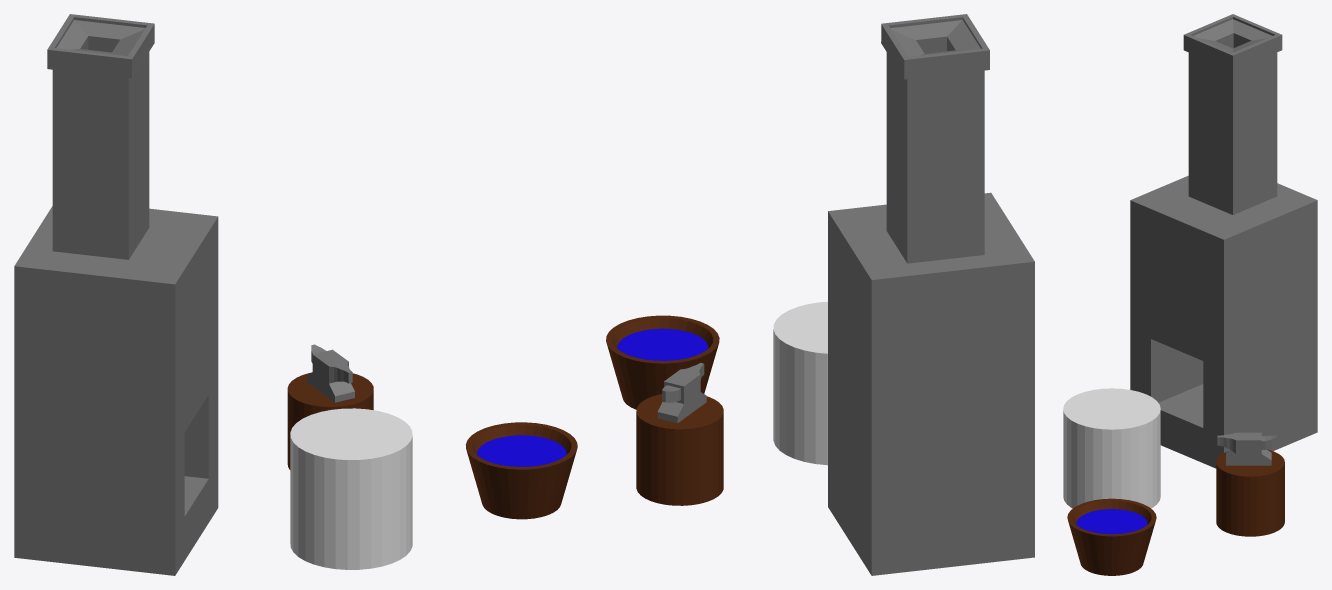
File: Forge.fbx
The picture shows the model from 3 angles, left to right: view 1: azimuth 30°, elevation 25°; view 2: azimuth 150°, elevation 25°; view 3: azimuth 270°, elevation 25°; orthographic projection. The views are drawn at different scales.
Parts seen in each view (by area): view 1: Cylinder; view 2: Cylinder; view 3: Cylinder.
Boxes of the visible parts, x1=… form: Cylinder: x1=14, y1=14, x2=577, y2=575; Cylinder: x1=606, y1=14, x2=1034, y2=575; Cylinder: x1=1063, y1=14, x2=1317, y2=575.
Bounding box in the file's own units: 673 × 655 × 384.
